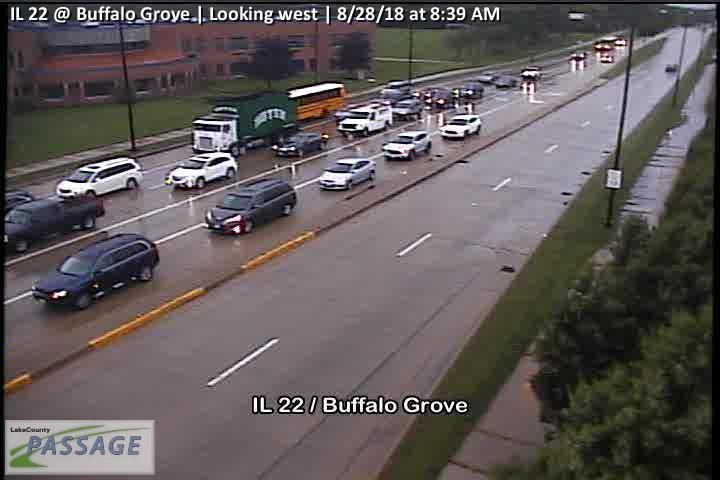Bus: (264, 83, 346, 123)
SUV: (31, 232, 160, 309), (203, 179, 298, 236), (56, 156, 143, 197), (168, 151, 240, 189), (338, 103, 393, 136), (381, 130, 432, 161), (440, 115, 483, 139)
Sedan: (319, 158, 377, 190), (271, 131, 322, 157), (392, 99, 423, 119)
Truck: (190, 89, 299, 157), (2, 192, 106, 252)
